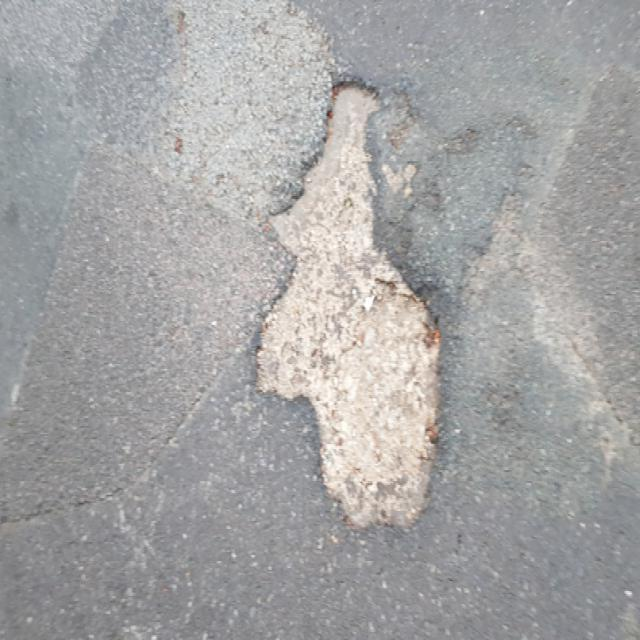Pothole: (254, 69, 447, 538)
